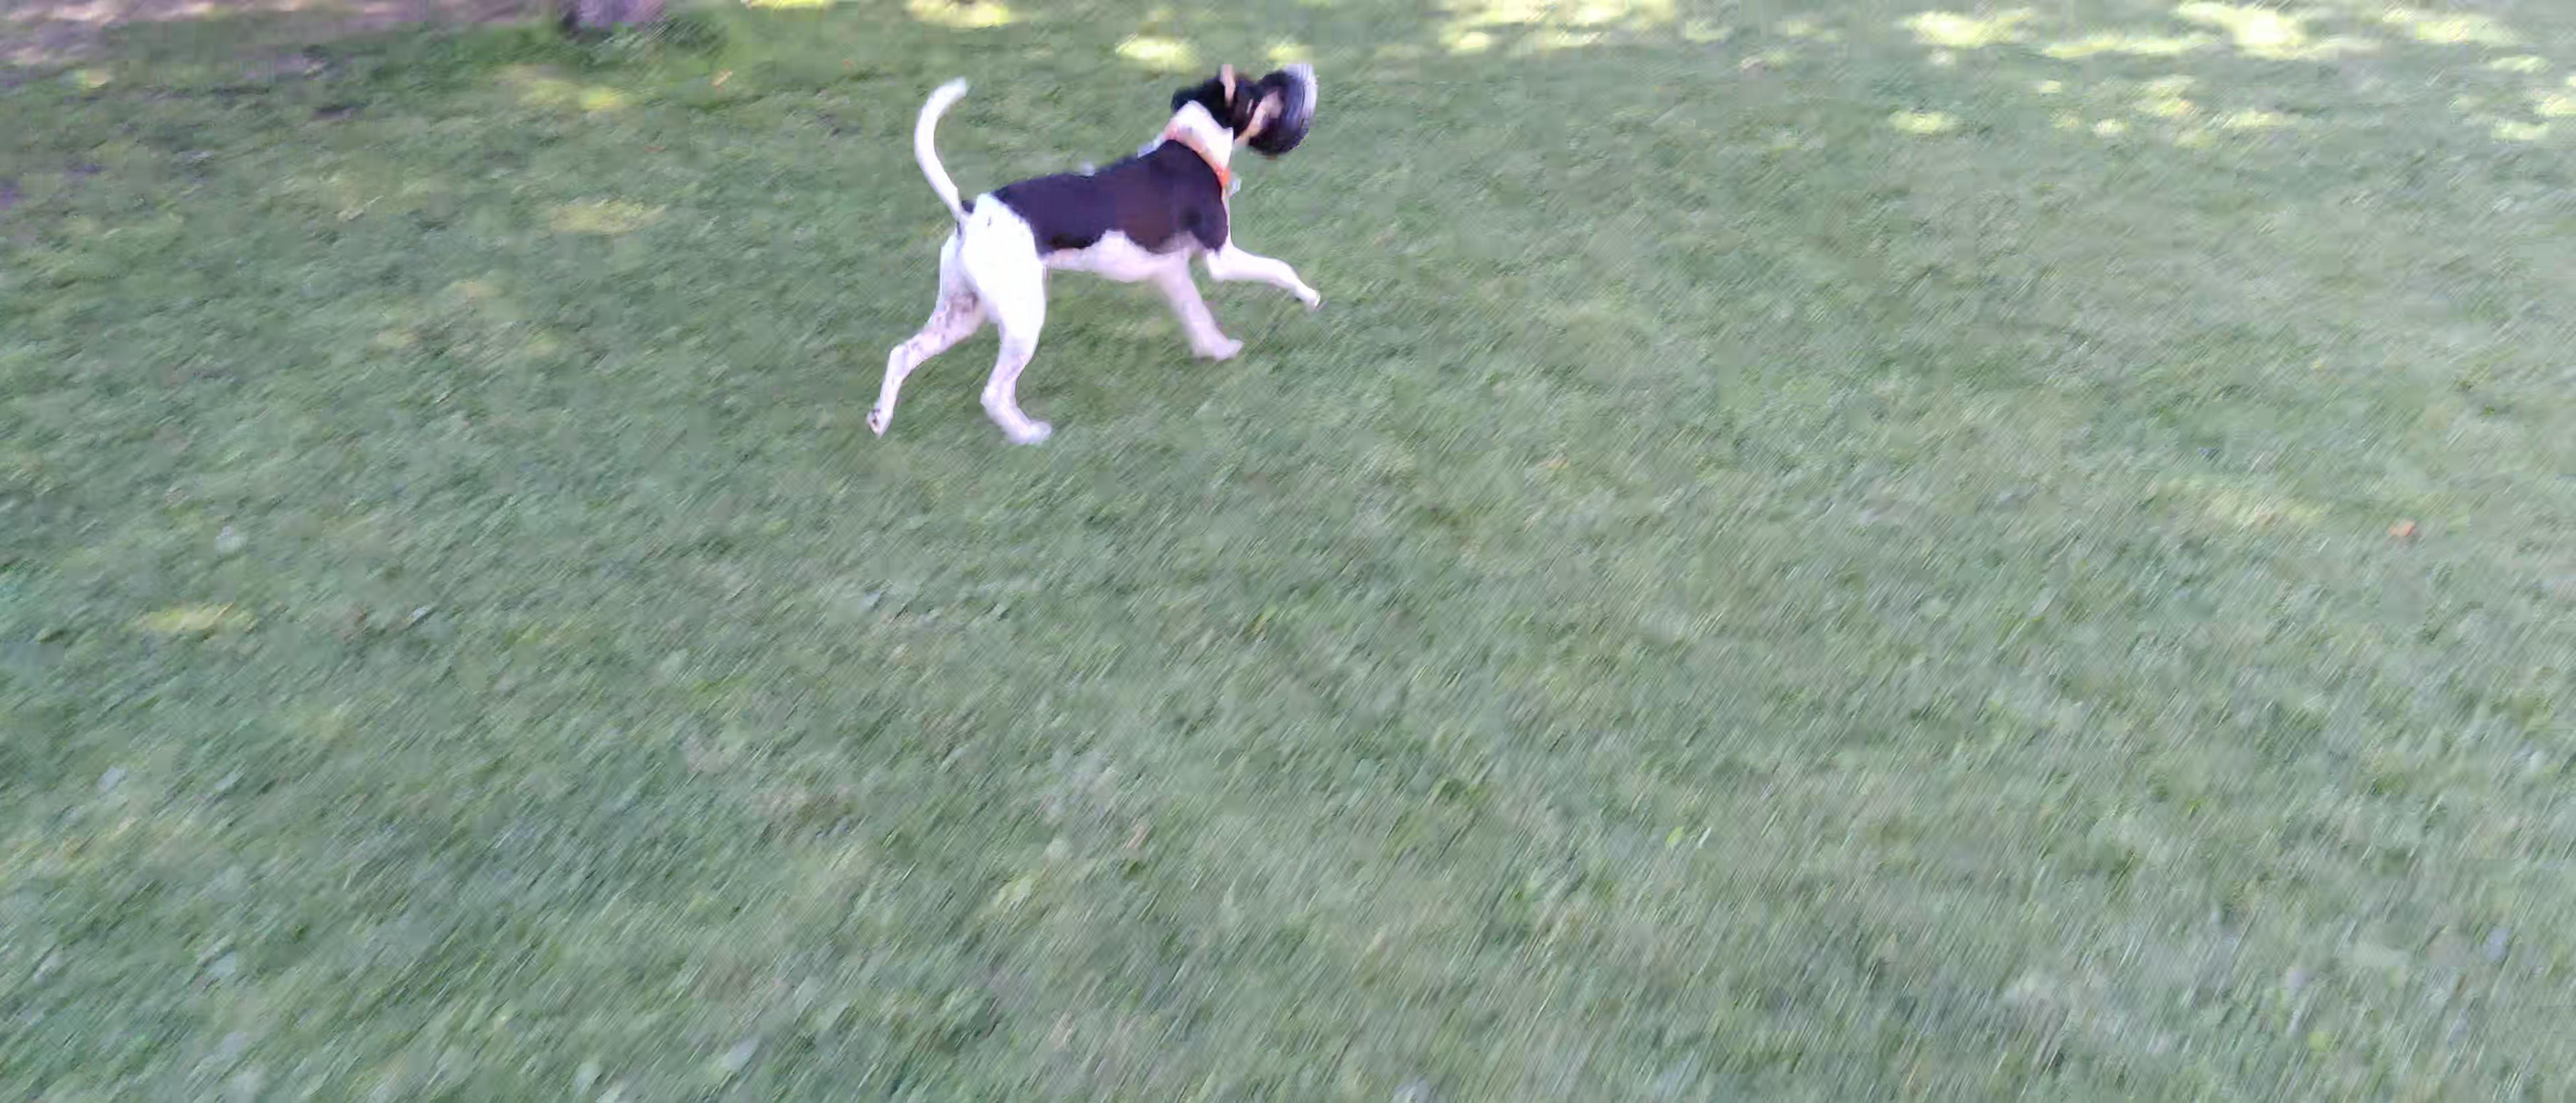Dog: (864, 66, 1327, 449)
